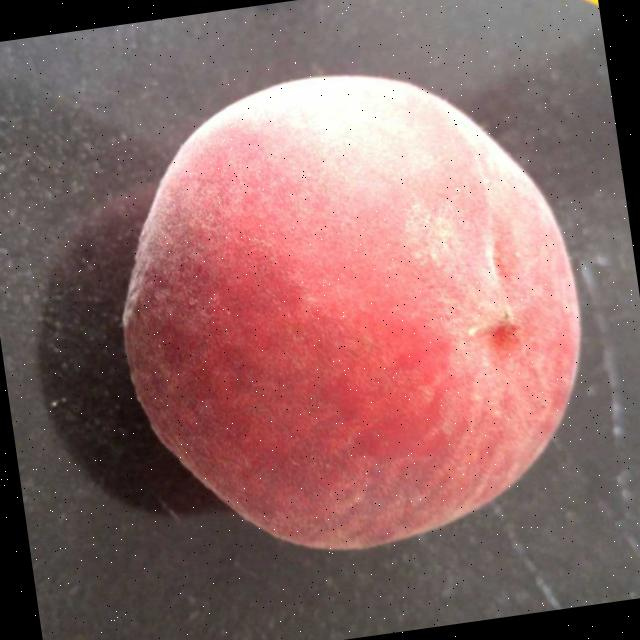peach: (138, 89, 572, 539)
